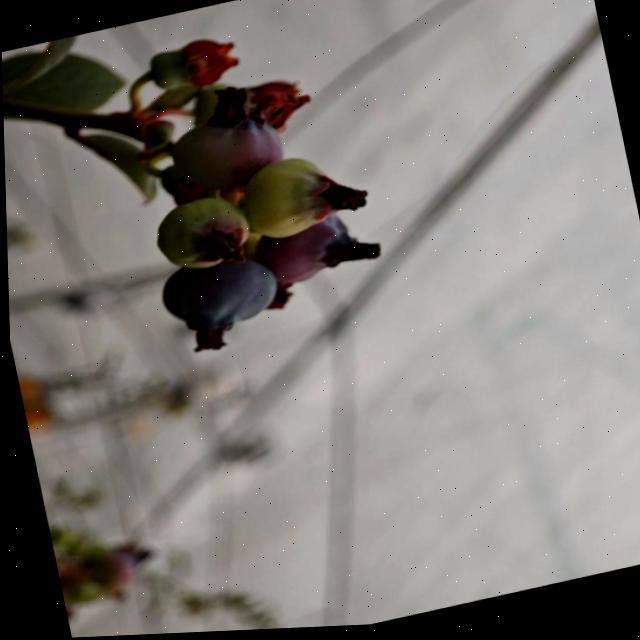RipeBlueBerry: (152, 248, 282, 341)
Semi-RipeBlueBerry: (253, 216, 358, 292)
UnripeBlueBerry: (234, 149, 346, 247), (167, 106, 287, 197), (146, 191, 255, 281)
